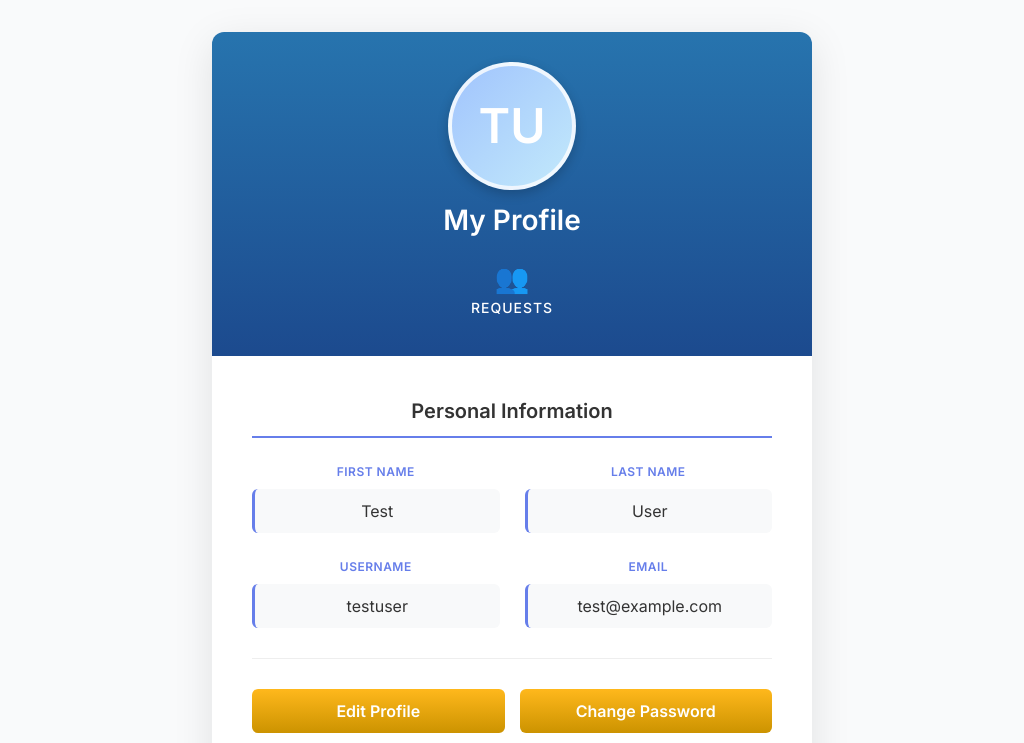
Test: Profile Component › Requests Modal › opens and displays friend requests
Click the text "Requests": coordinates (512, 307) [471, 299, 553, 316]
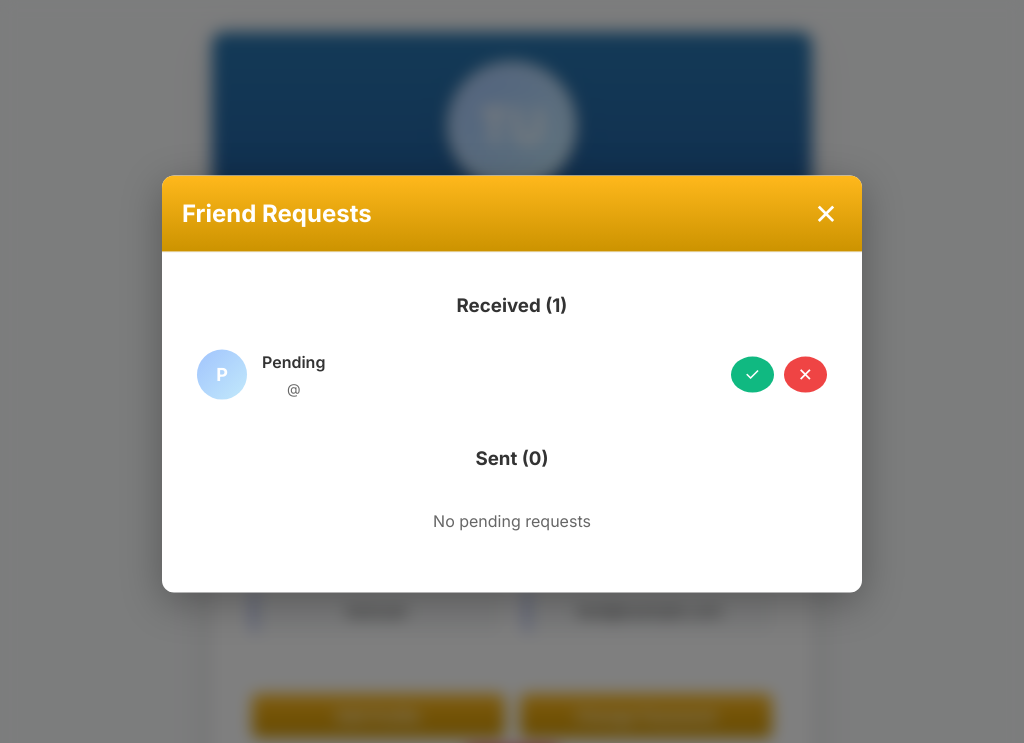
Result: the heading "Friend Requests" is shown at [182, 196, 372, 232]
Result: the text "Pending" is shown at [262, 350, 325, 374]
